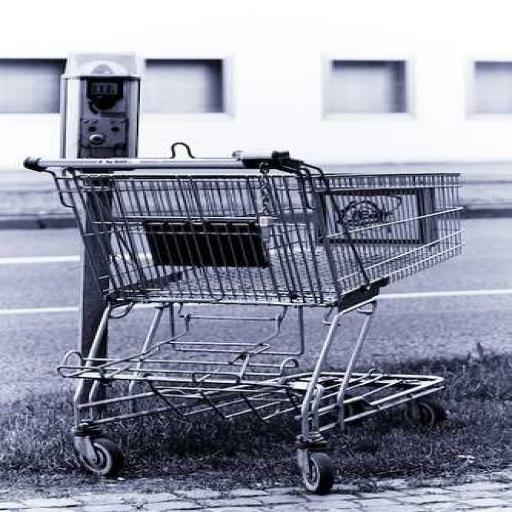shopping_cart: (20, 141, 467, 491)
